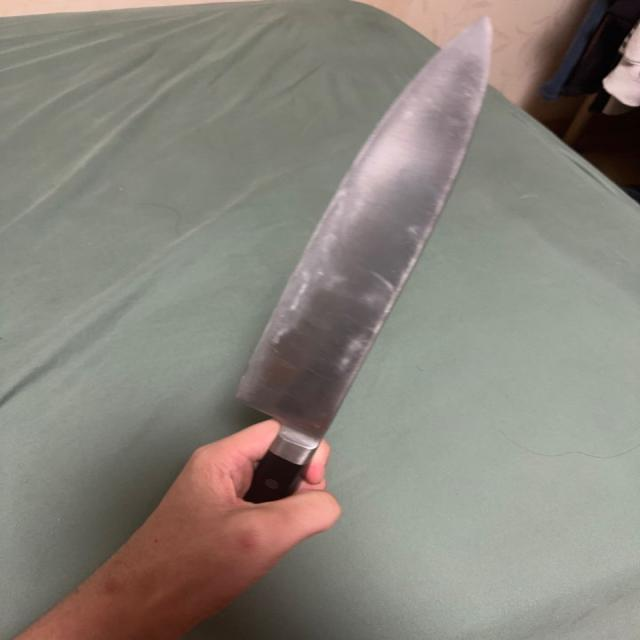knife: (231, 13, 496, 492)
